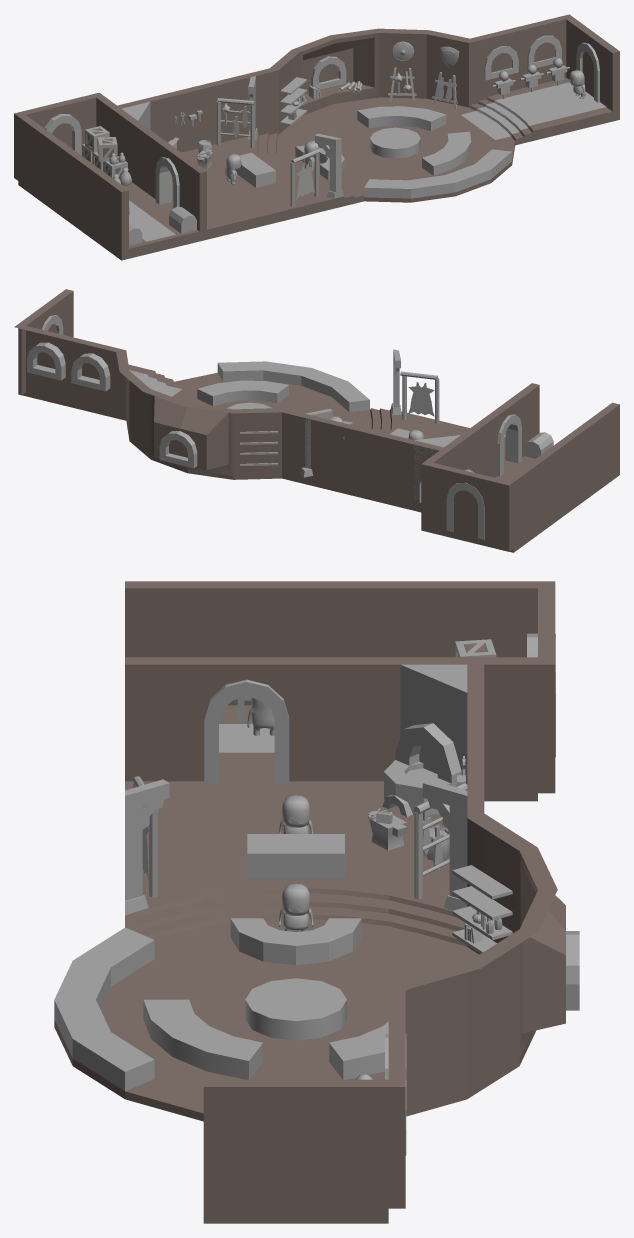
The model's file is Shop_blockout_v01_001.fbx.
3 views of the same model, one above another, from view 1: azimuth 30°, elevation 25°; view 2: azimuth 150°, elevation 25°; view 3: azimuth 270°, elevation 25° (orthographic). The views are drawn at different scales.
Visible parts, largest first — view 1: polySurface1, polySurface2, pCube26, pCube28, pCube25, pCube29, polySurface5, pCylinder4, pPipe12, pCube30, pCube27, pCylinder27 (+16 smaller); view 2: polySurface2, polySurface1, pCube28, pCube26, pCube27, pCube29, pCube25, pCylinder4, pPipe12, pCube30, pPipe9, pPipe7 (+7 smaller); view 3: polySurface1, polySurface2, pCube25, pCube26, pCylinder4, pPipe12, pCylinder27, pCube110, pPipe11, pCube118, pCube27, pCube30 (+13 smaller).
Boxes of the visible parts, box(x1,y1,x2,y2) form: polySurface1: box(18, 78, 619, 260); polySurface2: box(270, 28, 469, 134); pCube26: box(18, 115, 128, 256); pCube28: box(117, 68, 278, 152); pCube25: box(96, 96, 206, 237); pCube29: box(469, 14, 573, 106); polySurface5: box(461, 82, 606, 139); pCylinder4: box(364, 149, 512, 198); pPipe12: box(357, 106, 471, 175); pCube30: box(565, 14, 619, 117); pCube27: box(14, 92, 103, 180); pCylinder27: box(370, 127, 420, 158); polySurface2: box(116, 350, 282, 475); polySurface1: box(18, 364, 619, 552); pCube28: box(282, 408, 443, 508); pCube26: box(506, 402, 619, 548); pCube27: box(421, 461, 513, 551); pCube29: box(16, 324, 126, 416); pCube25: box(426, 383, 539, 477); pCylinder4: box(217, 361, 369, 412); pPipe12: box(197, 380, 288, 405); pCube30: box(14, 289, 73, 394); pPipe9: box(497, 414, 521, 476); pPipe7: box(71, 353, 110, 391); polySurface1: box(54, 705, 537, 1223); polySurface2: box(203, 813, 565, 1203); pCube25: box(125, 657, 537, 781); pCube26: box(125, 581, 537, 705); pCylinder4: box(54, 927, 154, 1091); pPipe12: box(143, 999, 388, 1079); pCylinder27: box(245, 978, 346, 1040); pCube110: box(400, 664, 467, 784); pPipe11: box(230, 918, 361, 965); pCube118: box(247, 834, 344, 878); pCube27: box(538, 581, 555, 793); pCube30: box(203, 1079, 405, 1208).
Bounding box in the file's own units: 271 × 34.37 × 119.
